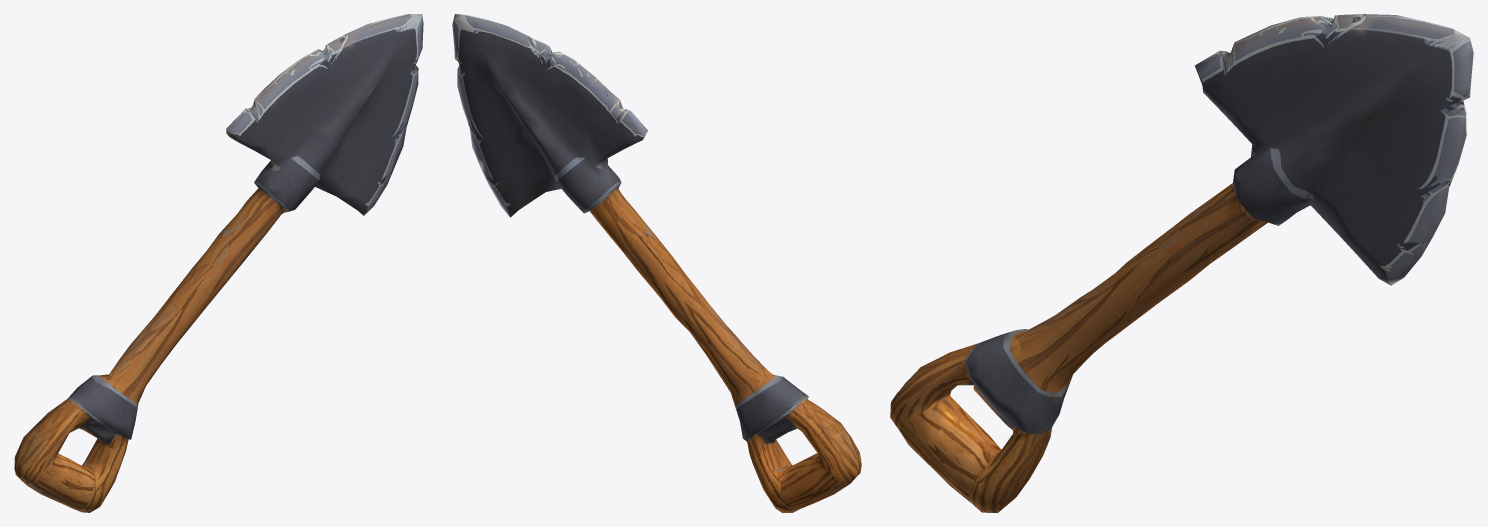
File: Shovel.glb
3 views of the same model, side by side, from view 1: azimuth 30°, elevation 25°; view 2: azimuth 150°, elevation 25°; view 3: azimuth 330°, elevation 25° (orthographic). The views are drawn at different scales.
Visible parts, largest first — view 1: texture_mapping; view 2: texture_mapping; view 3: texture_mapping.
Part boxes in pixels (x1=…): texture_mapping: x1=14, y1=14, x2=423, y2=512; texture_mapping: x1=452, y1=14, x2=861, y2=512; texture_mapping: x1=890, y1=14, x2=1473, y2=512.
Bounding box in the file's own units: 0.9943 × 0.9776 × 0.121.
1 material, 1 textured.
